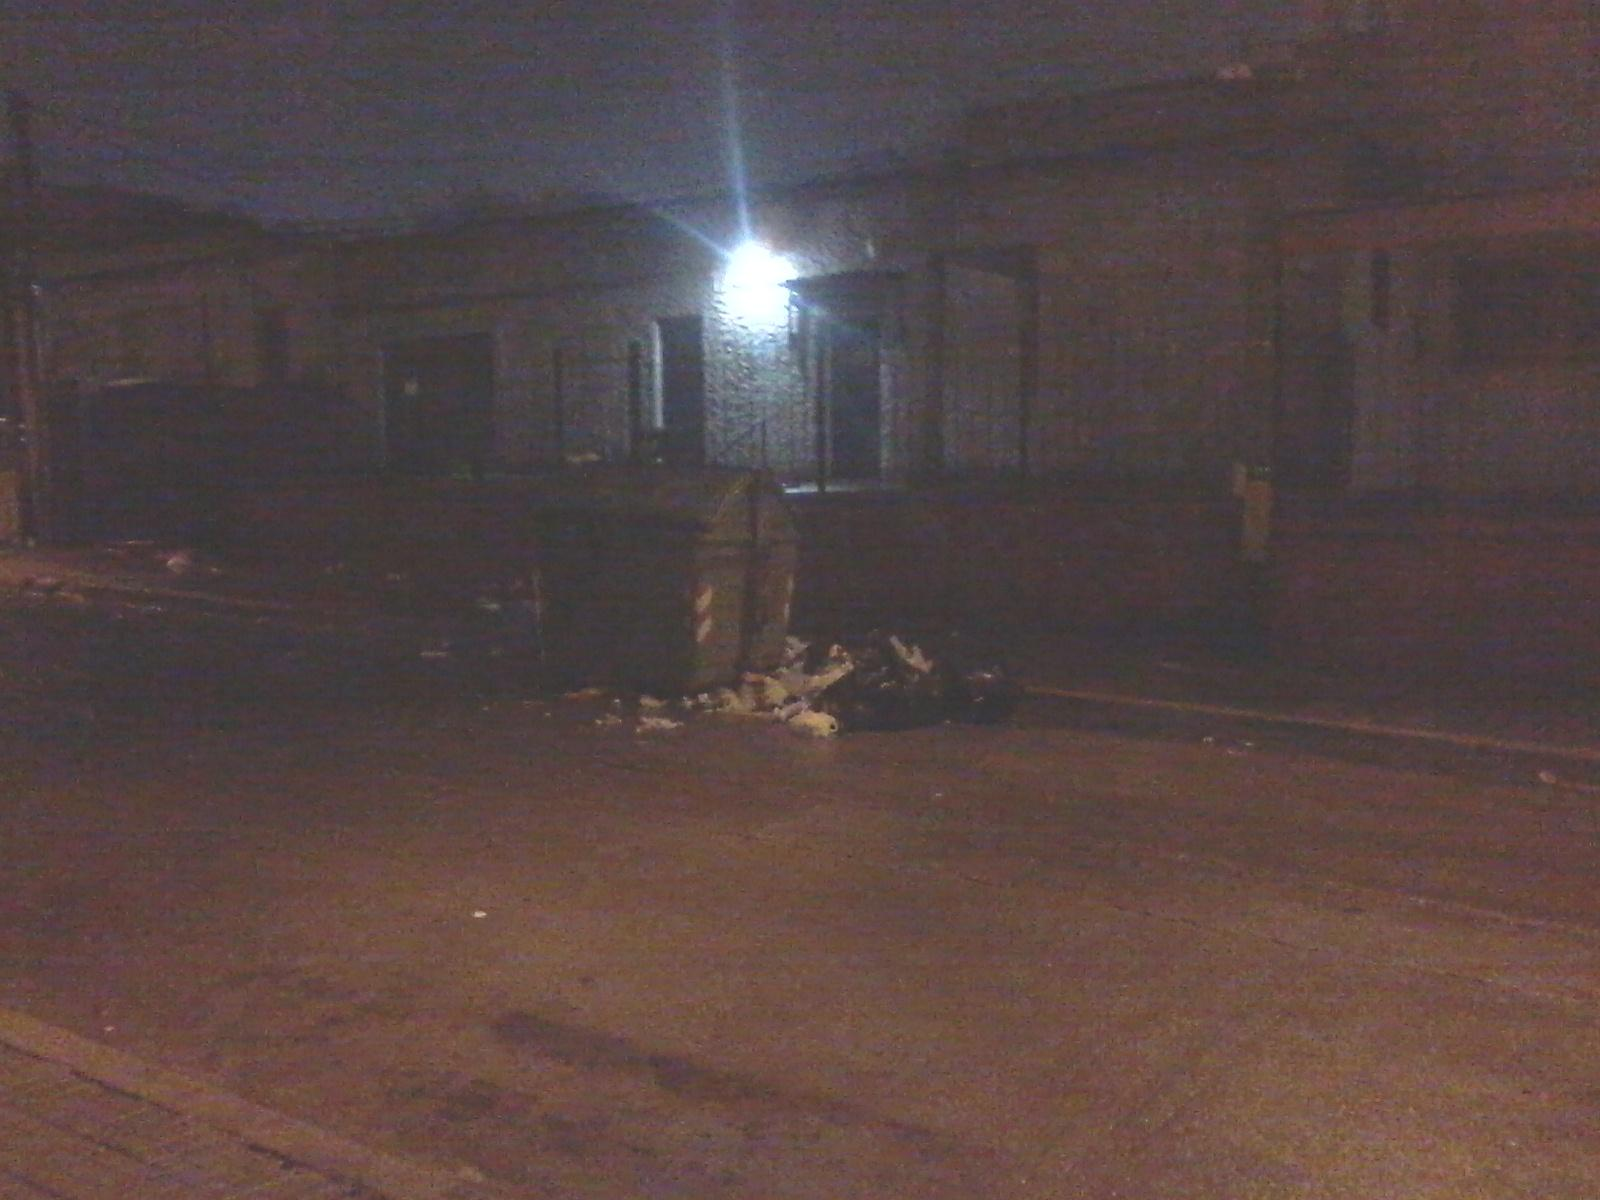Dechets: (674, 628, 937, 726), (813, 650, 945, 729), (929, 643, 1029, 724), (790, 708, 842, 744), (163, 553, 222, 582), (639, 715, 680, 734), (417, 648, 449, 661)
Trash: (525, 456, 804, 687)
